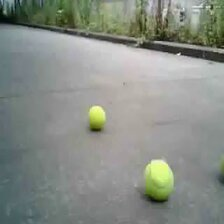tennis: (142, 158, 173, 199), (88, 104, 106, 129)
